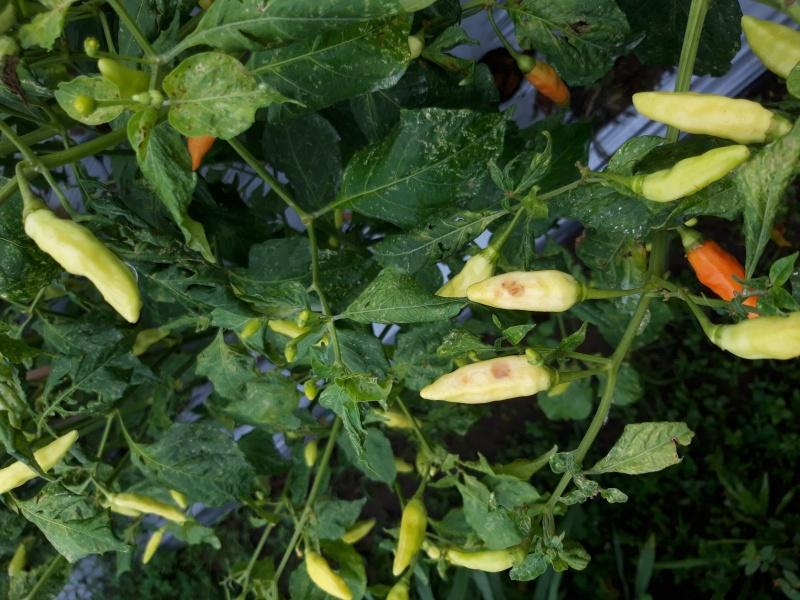antraknosa: (413, 356, 554, 406), (470, 266, 572, 316)
cabai_normal: (29, 210, 141, 320), (634, 88, 776, 136), (638, 148, 746, 207), (692, 244, 766, 324), (719, 306, 800, 359), (390, 499, 429, 575), (526, 57, 570, 111)
